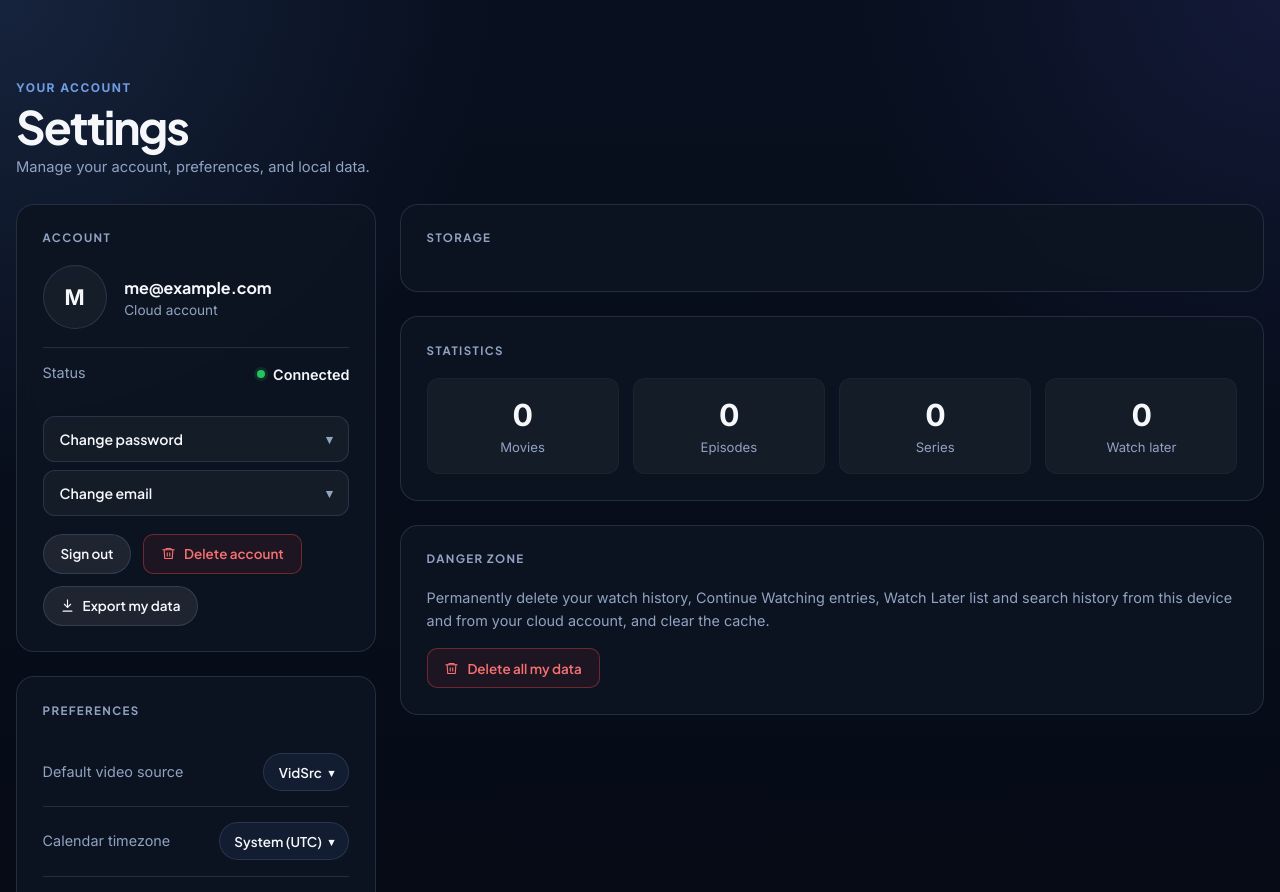
Settings > delete account › keeps the confirm button disabled until the word and the password are both filled
Click the button "Delete account": (222,554) [143,534,302,574]
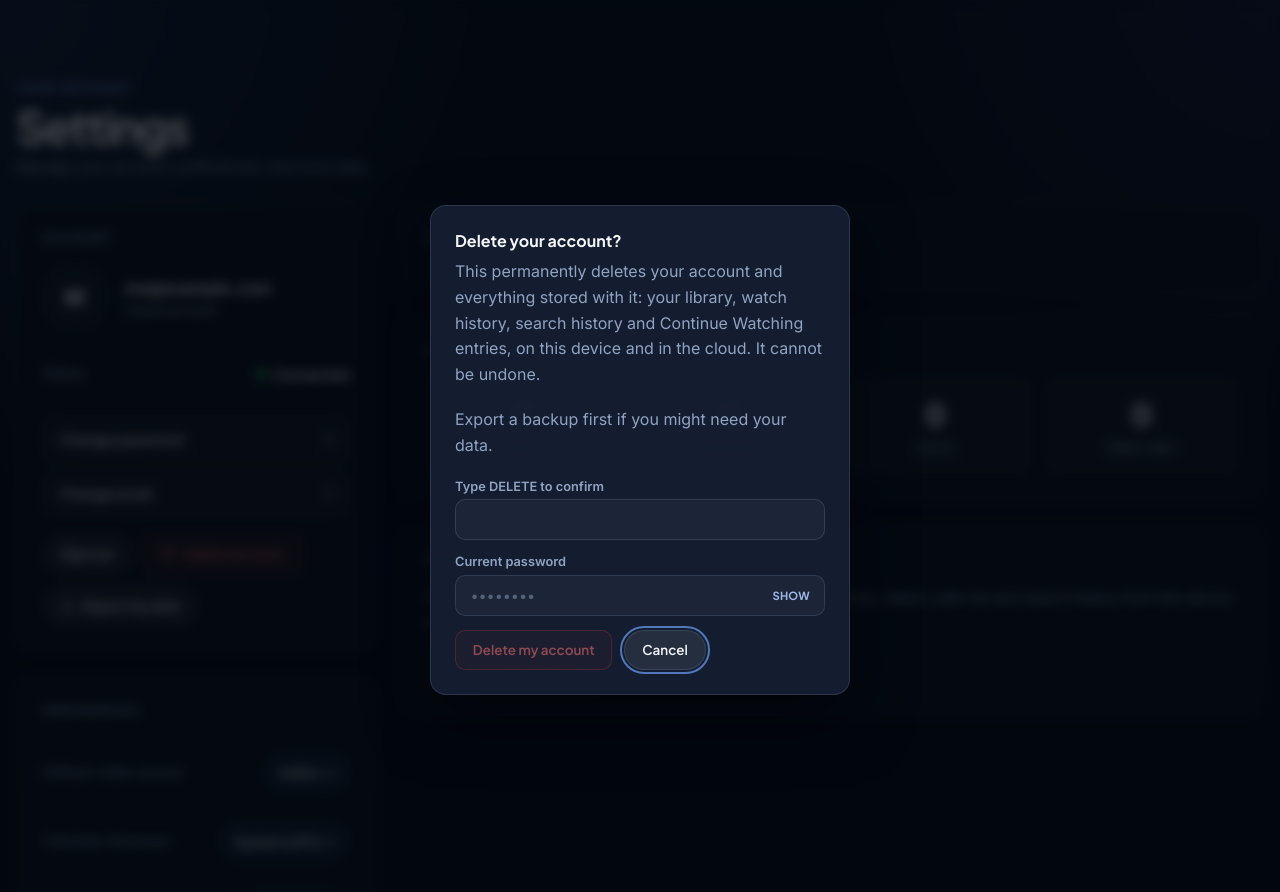
Check: the button "Delete my account" is disabled, box [455,630,612,670]
In the field labelled "Type DELETE to confirm": (640,520) [455,499,825,540], type "DELETE"
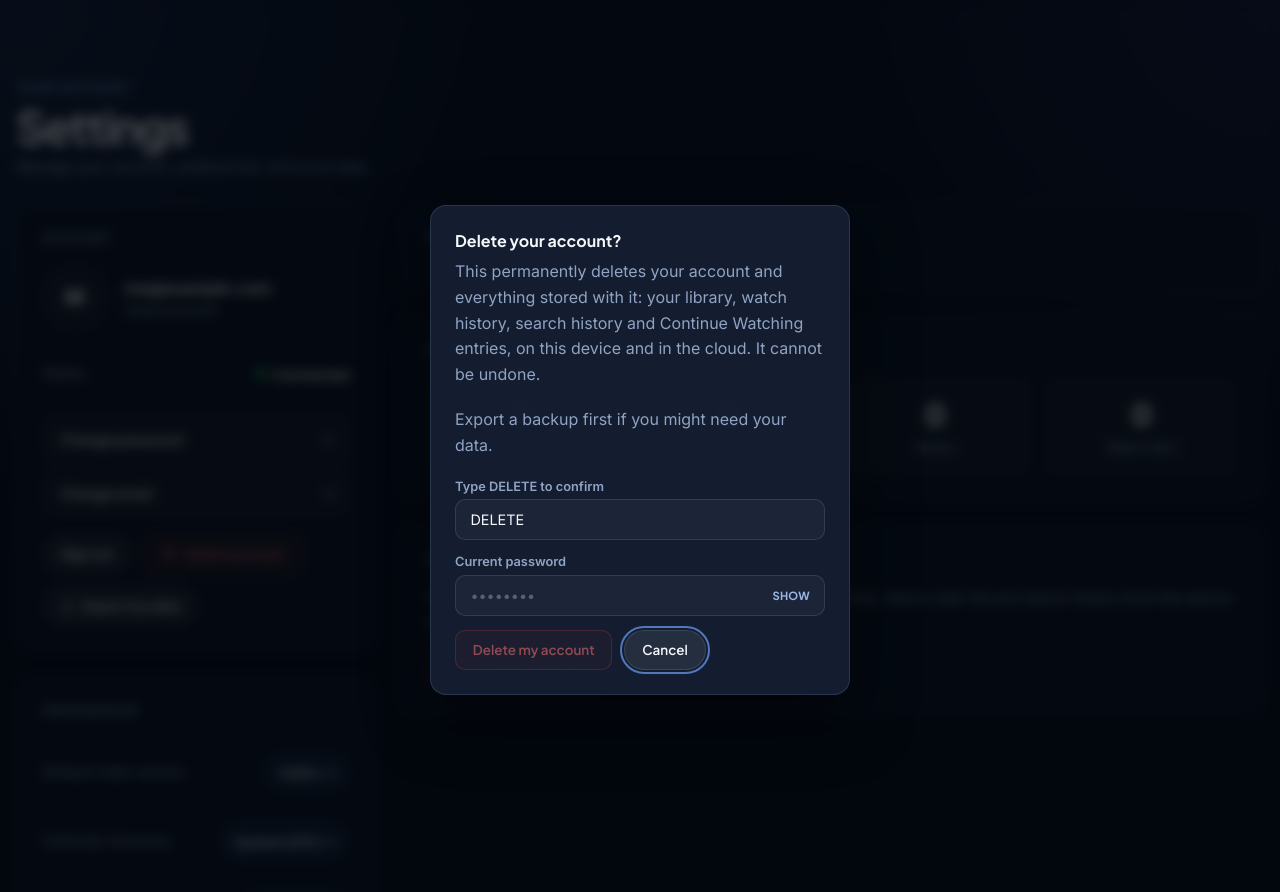
Check: the button "Delete my account" is disabled, box [455,630,612,670]
Clear the field labelled "Type DELETE to confirm": (640,520) [455,499,825,540]
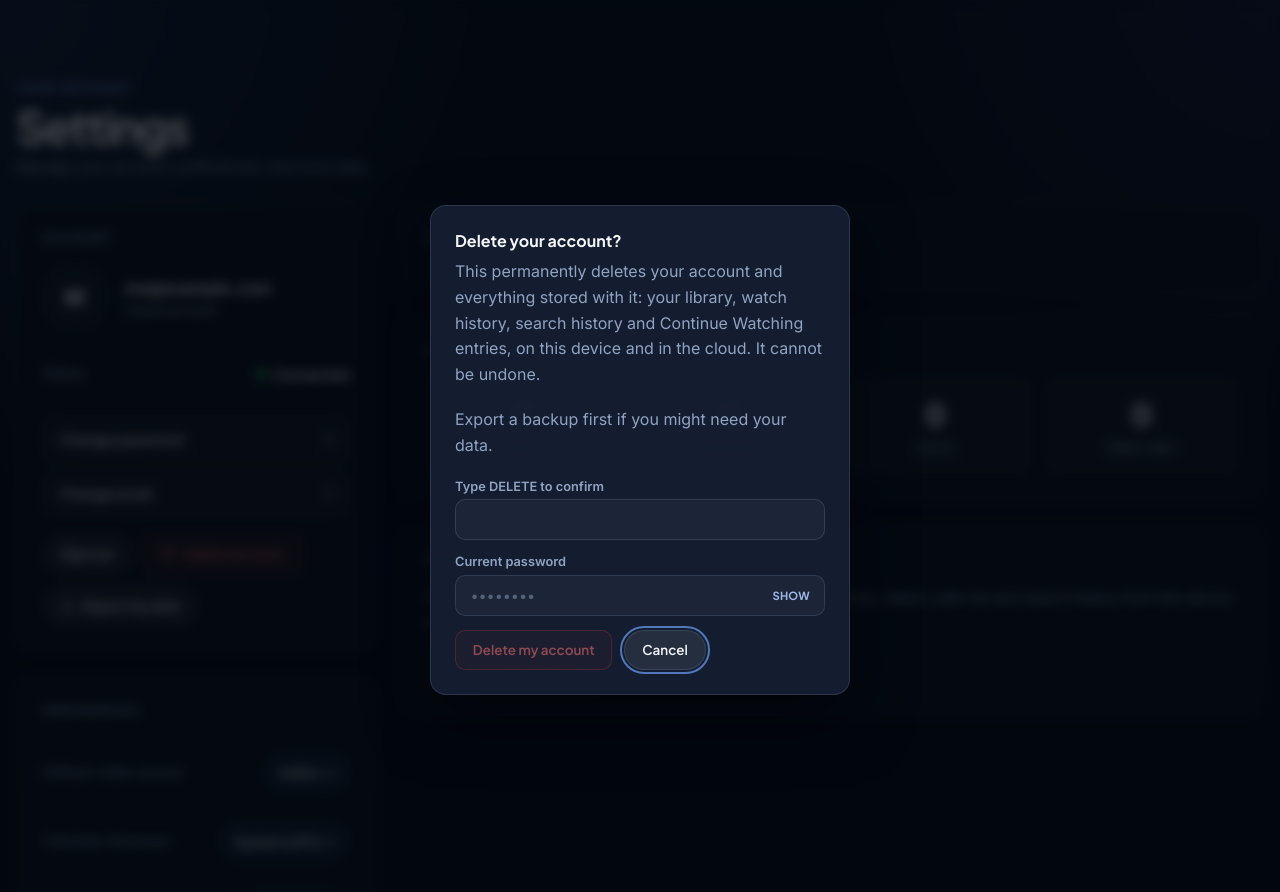
In the password field labelled "Current password Show": (640,595) [455,575,825,616], type "Old!Password-1"
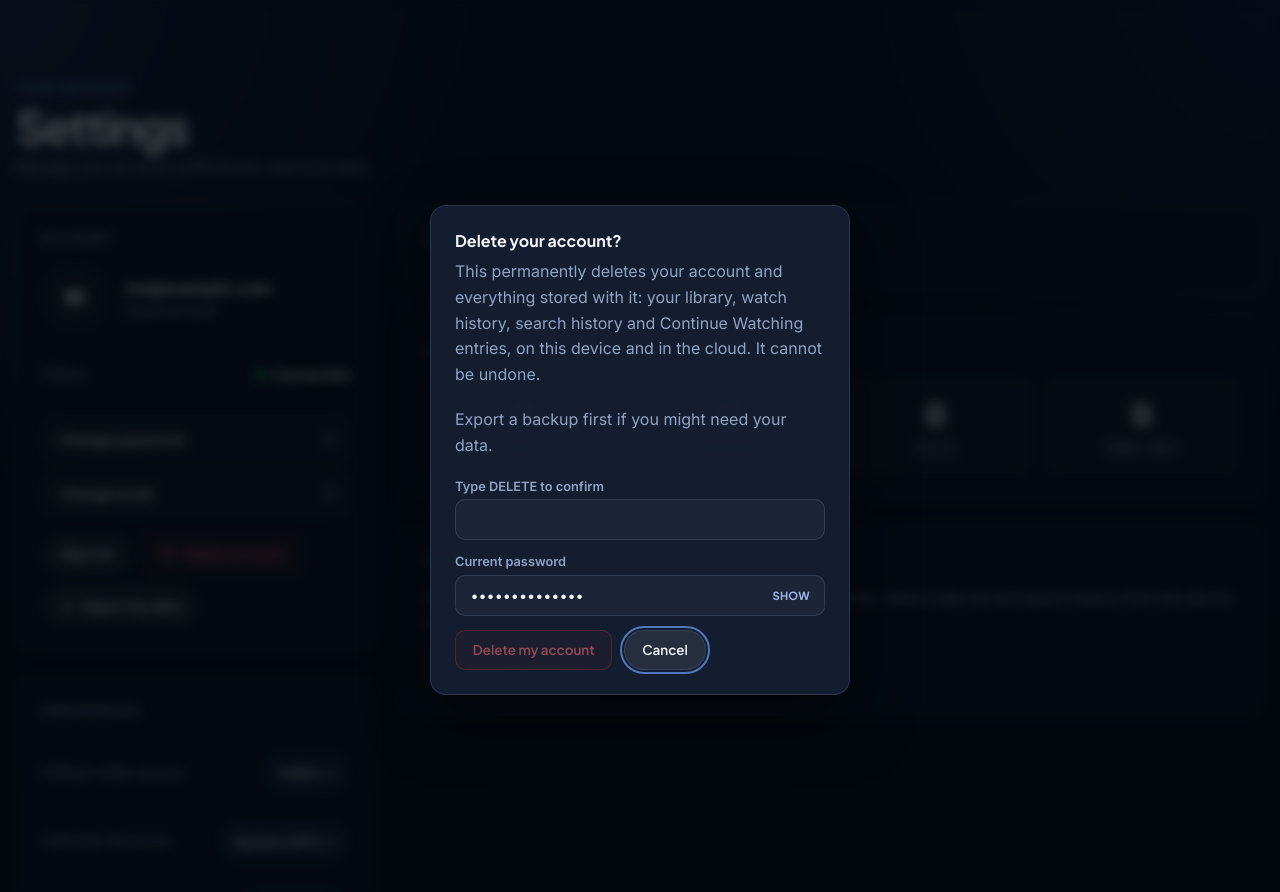
Check: the button "Delete my account" is disabled, box [455,630,612,670]
In the field labelled "Type DELETE to confirm": (640,520) [455,499,825,540], type "DELET"
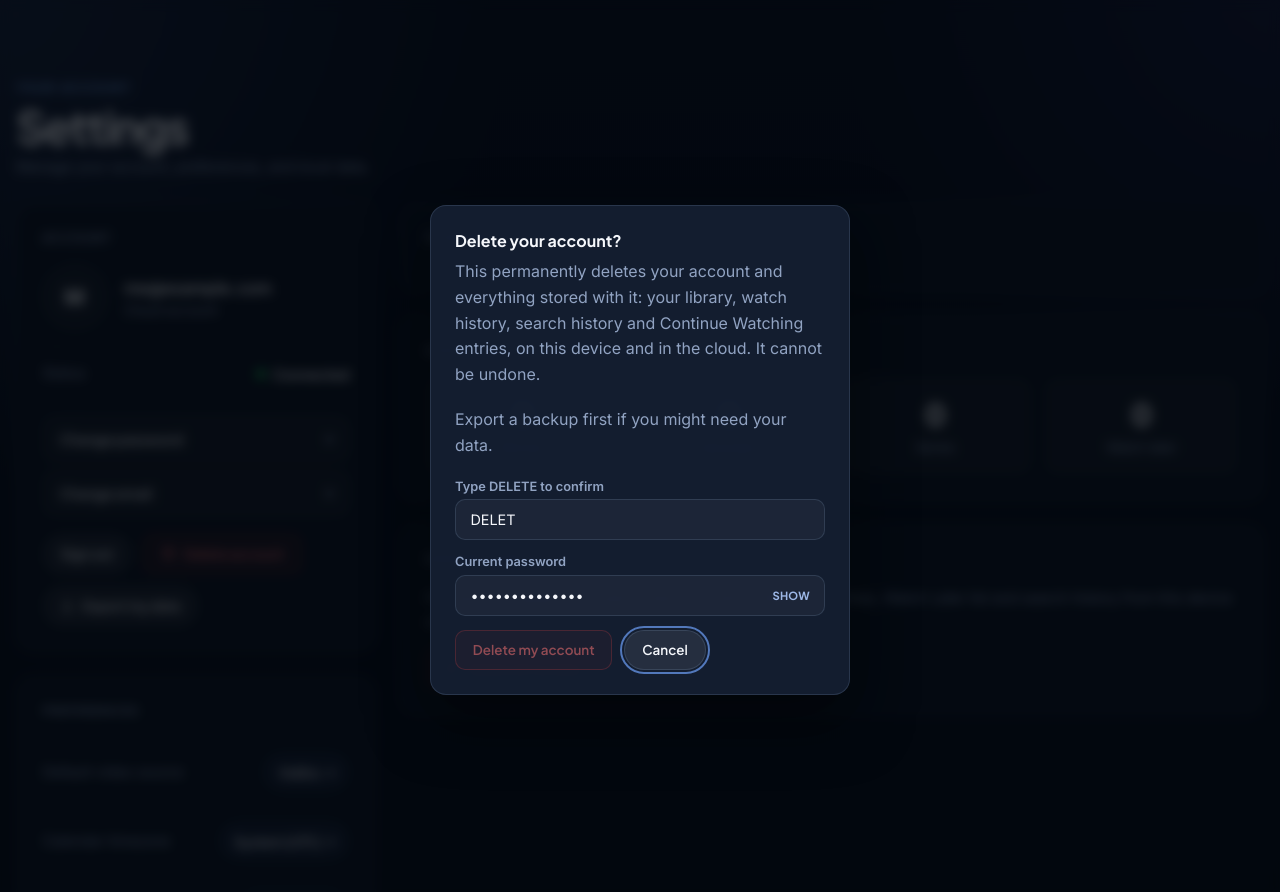
Check: the button "Delete my account" is disabled, box [455,630,612,670]
Replace the text in the field labelled "Type DELETE to confirm" with "delete ": (640,520) [455,499,825,540]
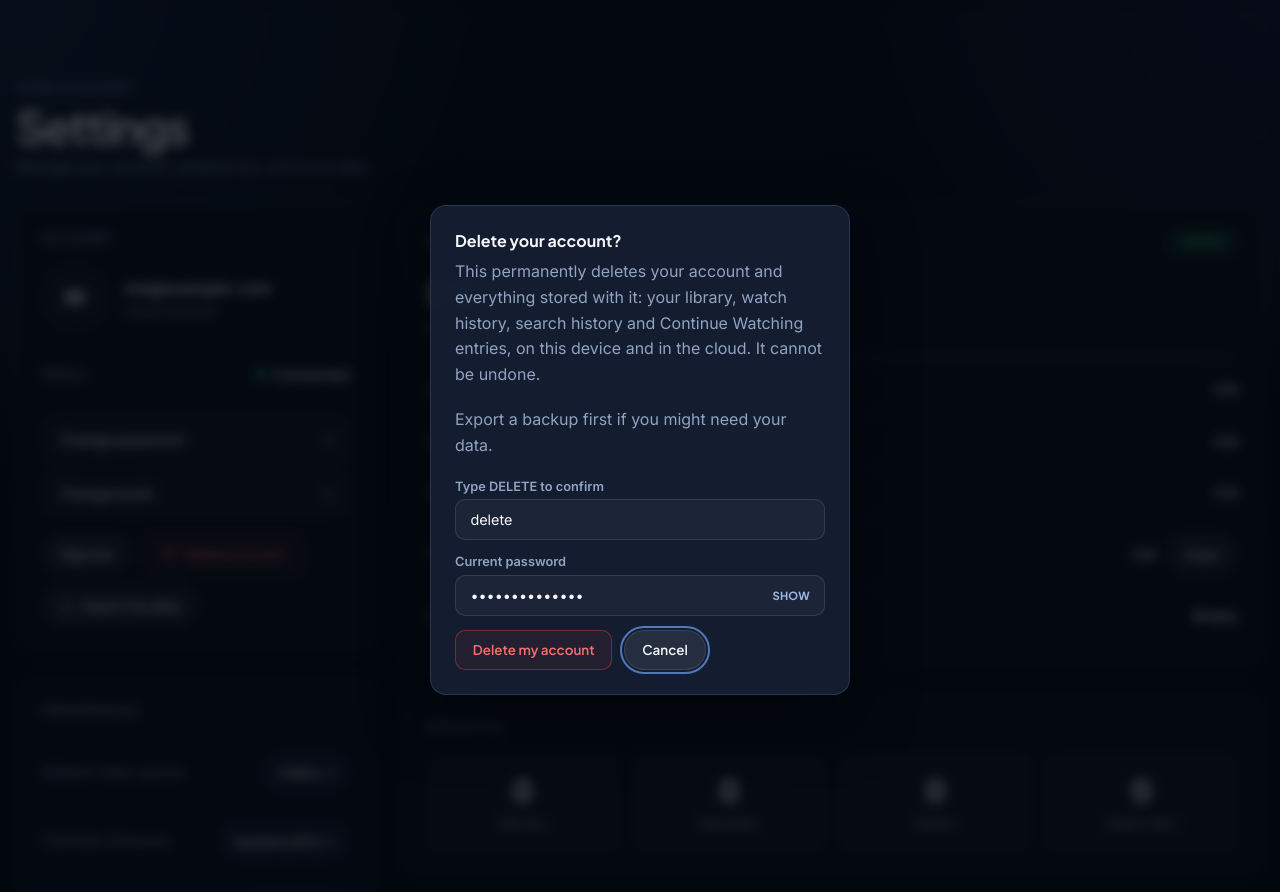
Check: the button "Delete my account" is enabled, box [455,630,612,670]
